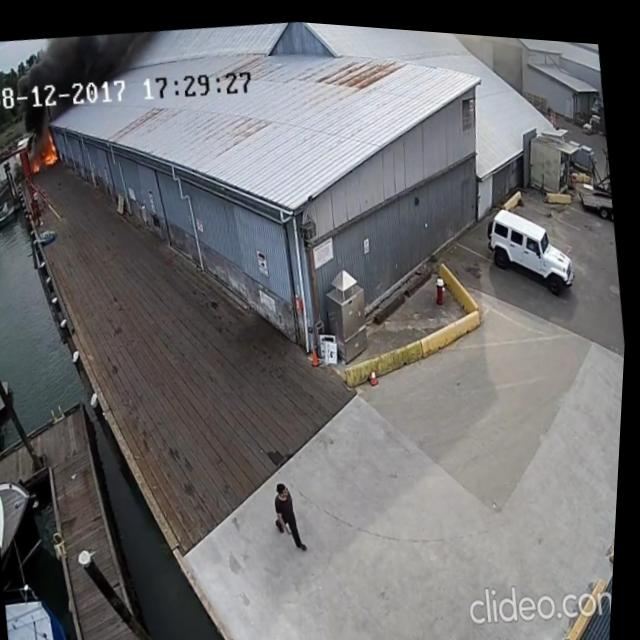fire: (27, 127, 65, 177)
